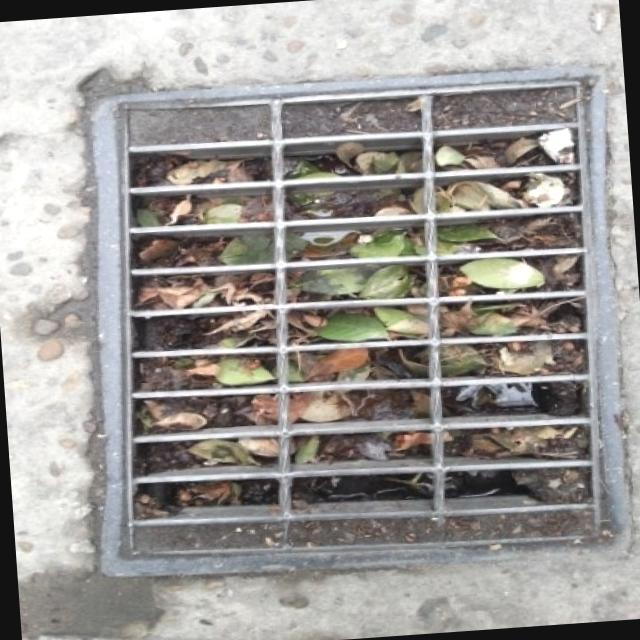drain_area: (310, 468, 551, 513)
drain_full: (123, 79, 601, 553)
